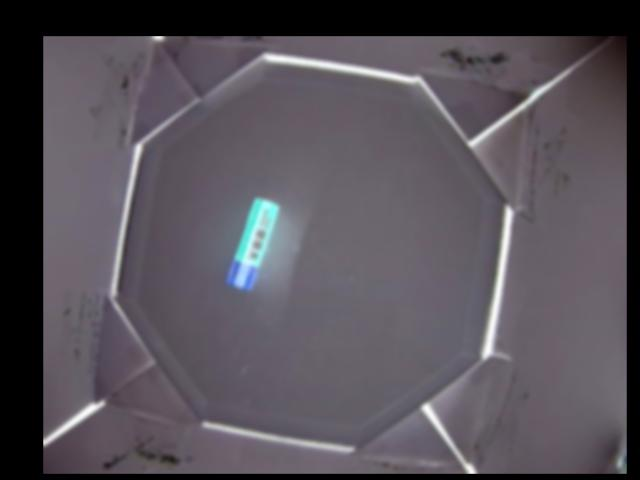Battery: (227, 196, 279, 290)
